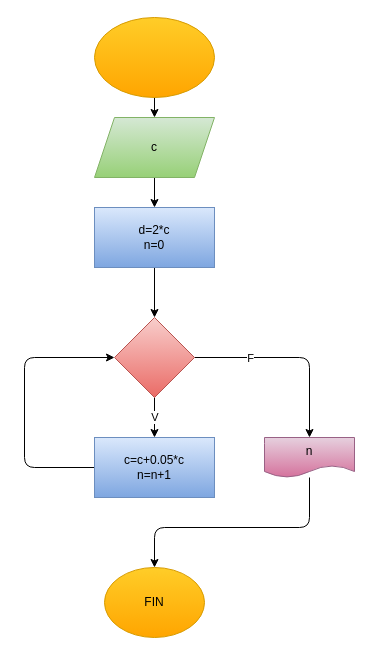
The diagram is 372 pixels wide and 655 high, and some of its shapes have lost their labels. The shapes that lost their labels are listed below. From the top down, each one's centre as x and y in pixels, then its label:
(x=154, y=57): INICIO
(x=154, y=357): c<d
